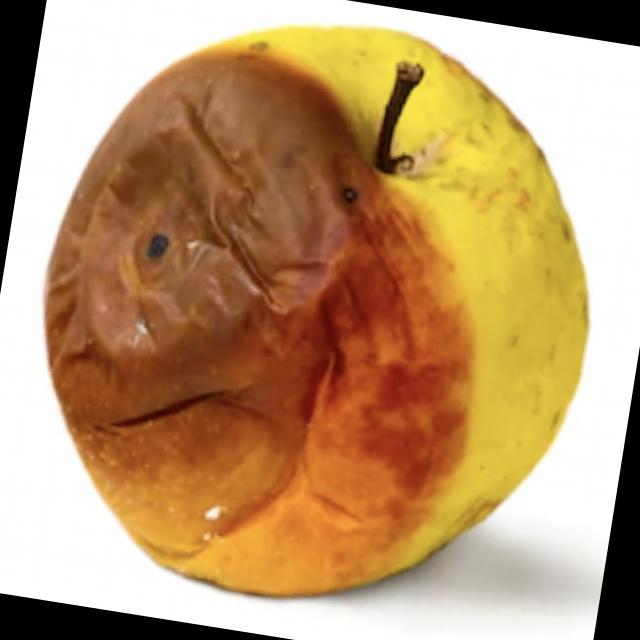rotten_apple: (4, 0, 629, 638)
